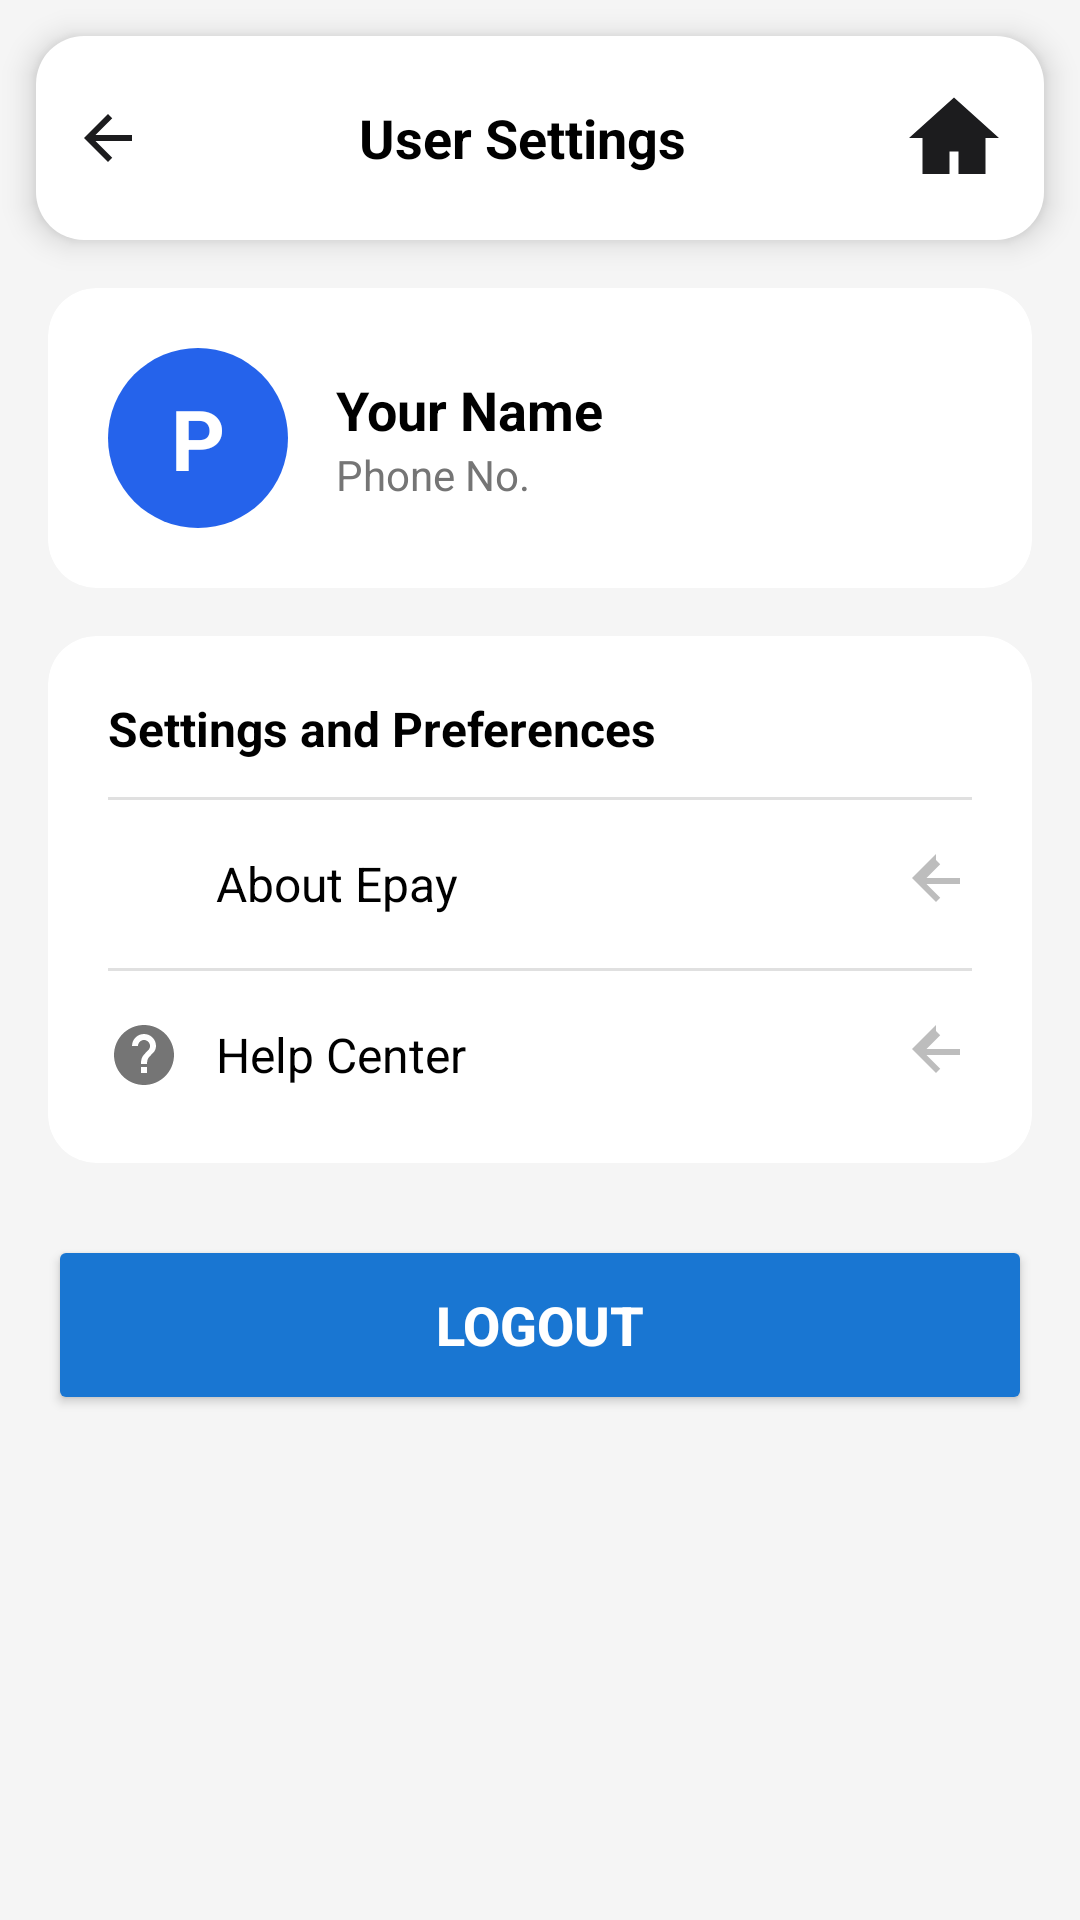

Icon bounding boxes for this 1080 x 1920 phone screenshot, format (x1, y1, x2, y2):
Back button: (84, 114, 132, 162)
Home: (909, 97, 999, 174)
